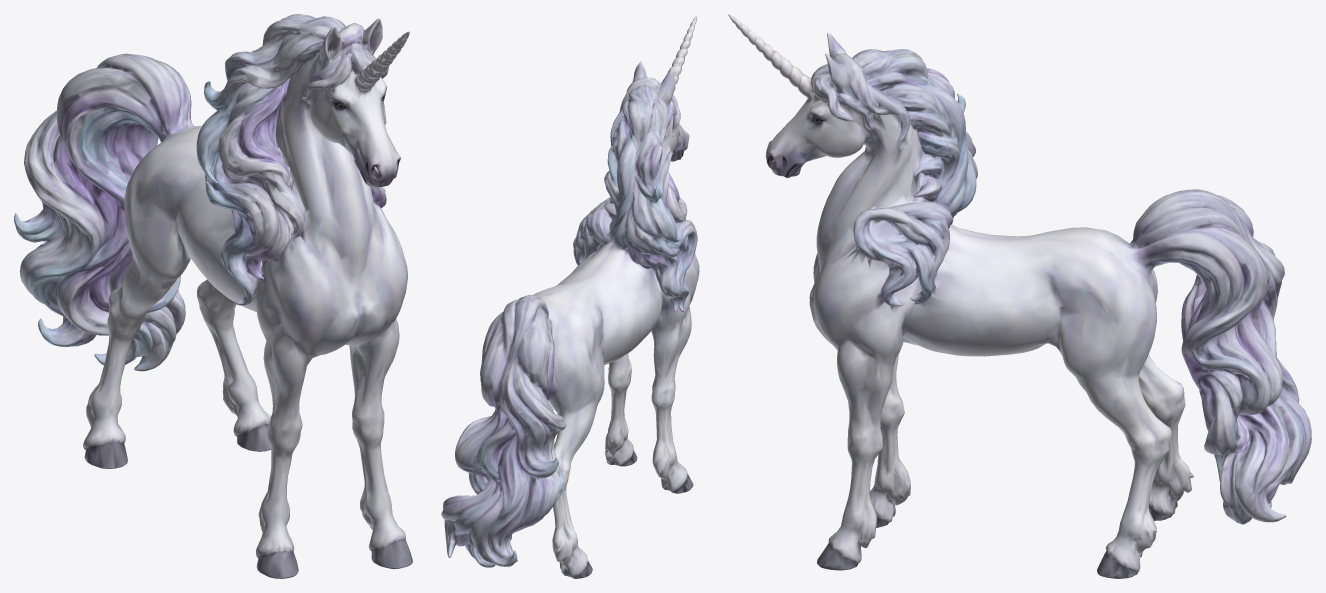
File: unicorn.glb
The picture shows the model from 3 angles, left to right: view 1: azimuth 30°, elevation 25°; view 2: azimuth 150°, elevation 25°; view 3: azimuth 270°, elevation 25°; orthographic projection. The views are drawn at different scales.
Visible parts, largest first — view 1: unicorn; view 2: unicorn; view 3: unicorn.
Part boxes in pixels (x1=…): unicorn: x1=14, y1=14, x2=412, y2=578; unicorn: x1=441, y1=14, x2=699, y2=578; unicorn: x1=728, y1=14, x2=1311, y2=578.
Bounding box in the file's own units: 0.7804 × 2.4 × 2.39.
1 material, 1 textured.
